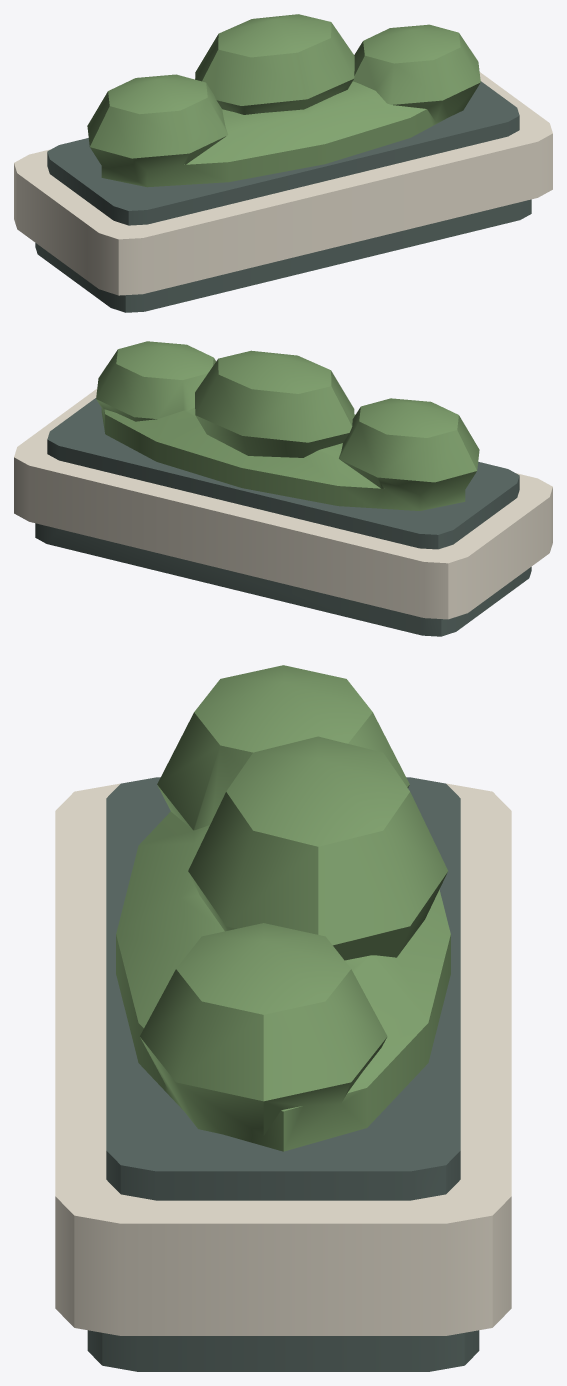
Rendered from lavender-bed.glb.
The picture shows the model from 3 angles, top to bottom: view 1: azimuth 30°, elevation 25°; view 2: azimuth 150°, elevation 25°; view 3: azimuth 270°, elevation 25°; orthographic projection. The views are drawn at different scales.
Parts seen in each view (by area): view 1: lavender-bed; view 2: lavender-bed; view 3: lavender-bed.
Part boxes in pixels (x1,y1,x2,y2): lavender-bed: (14, 14, 552, 312); lavender-bed: (14, 341, 552, 636); lavender-bed: (55, 665, 511, 1371).
Size of the model in its own units: 4.2 by 1.82 by 1.84.
2 materials, 2 textured.
